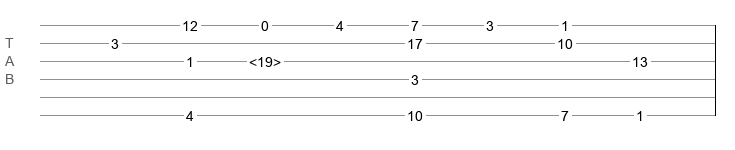0: (261, 18, 269, 28)
1: (186, 54, 194, 64), (561, 18, 569, 28), (636, 108, 644, 118)
10: (407, 108, 423, 118), (557, 36, 573, 46)
12: (182, 18, 198, 28)
13: (632, 54, 648, 64)
17: (407, 36, 423, 46)
3: (111, 36, 119, 46), (411, 72, 419, 82), (486, 18, 494, 28)
4: (186, 108, 194, 118), (336, 18, 344, 28)
7: (411, 18, 419, 28), (561, 108, 569, 118)
harmonic: (249, 54, 281, 64)
